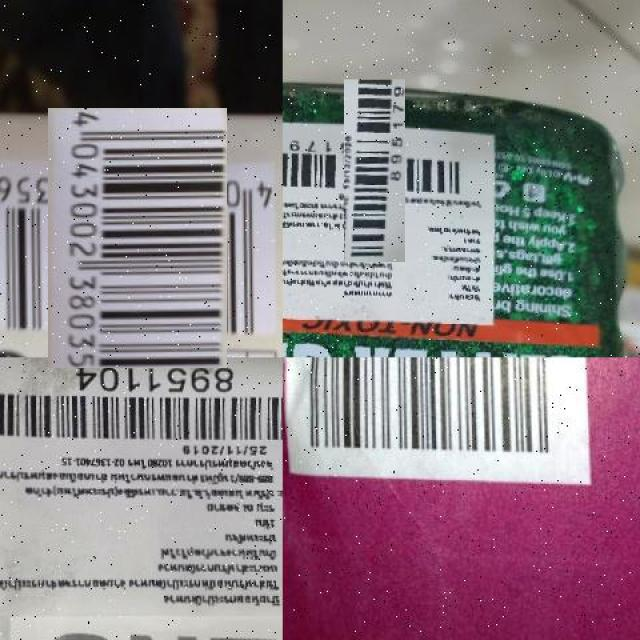Barcode: (24, 132, 252, 360), (283, 357, 589, 487), (0, 368, 283, 448), (313, 109, 436, 232)
